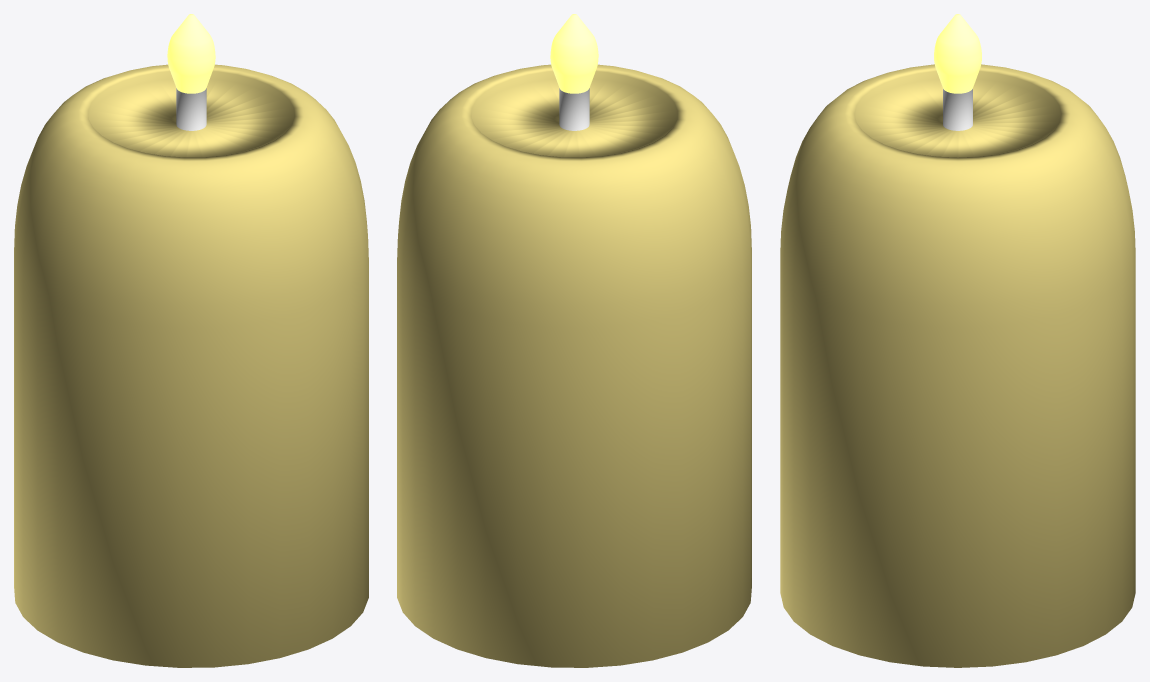
Rendered from Candle.fbx.
3 renders of one model, left to right at view 1: azimuth 30°, elevation 25°; view 2: azimuth 150°, elevation 25°; view 3: azimuth 270°, elevation 25°, orthographic.
Parts seen in each view (by area): view 1: Espelma; view 2: Espelma; view 3: Espelma.
Boxes of the visible parts, <box> form: Espelma: <box>14,14,368,667</box>; Espelma: <box>397,14,751,667</box>; Espelma: <box>780,14,1135,667</box>.
Size of the model in its own units: 66.53 by 119 by 66.53.
